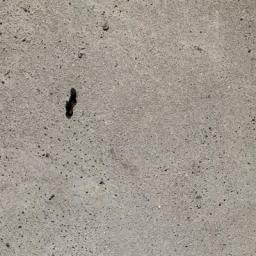FOD: (60, 87, 84, 119)
